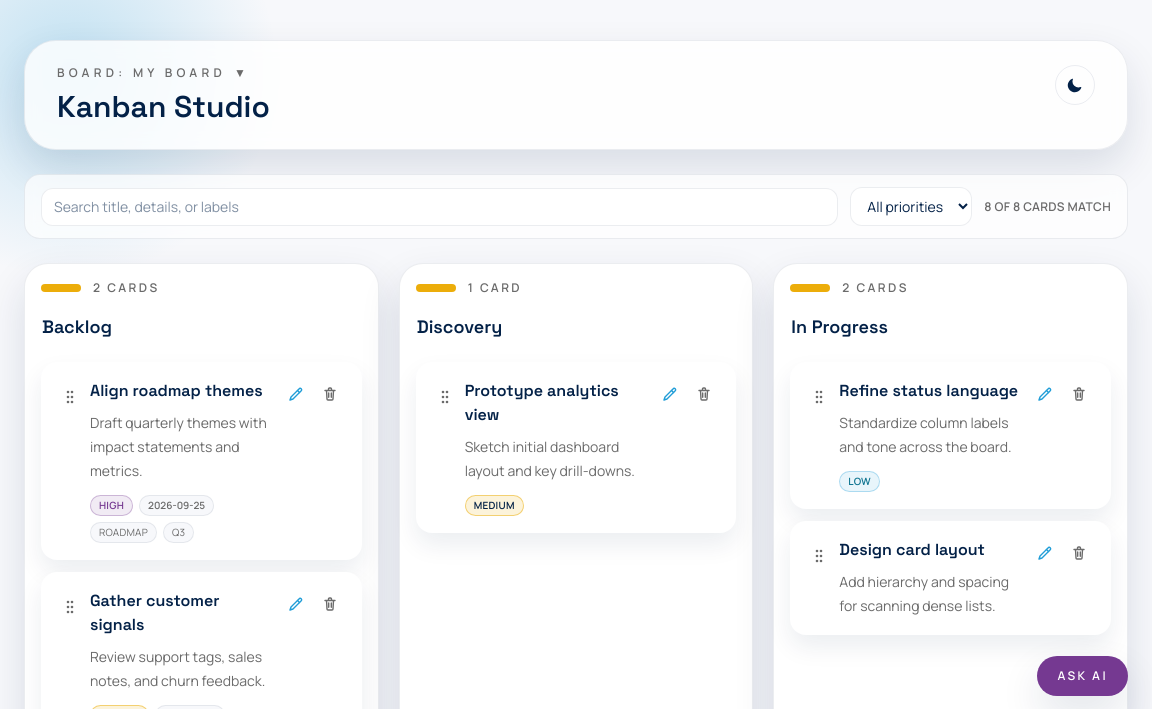
Test: KanbanBoard › column rename › puts the title back when the field is left blank
Clear the field named "column title" at point(193, 327), box [33, 308, 354, 346]
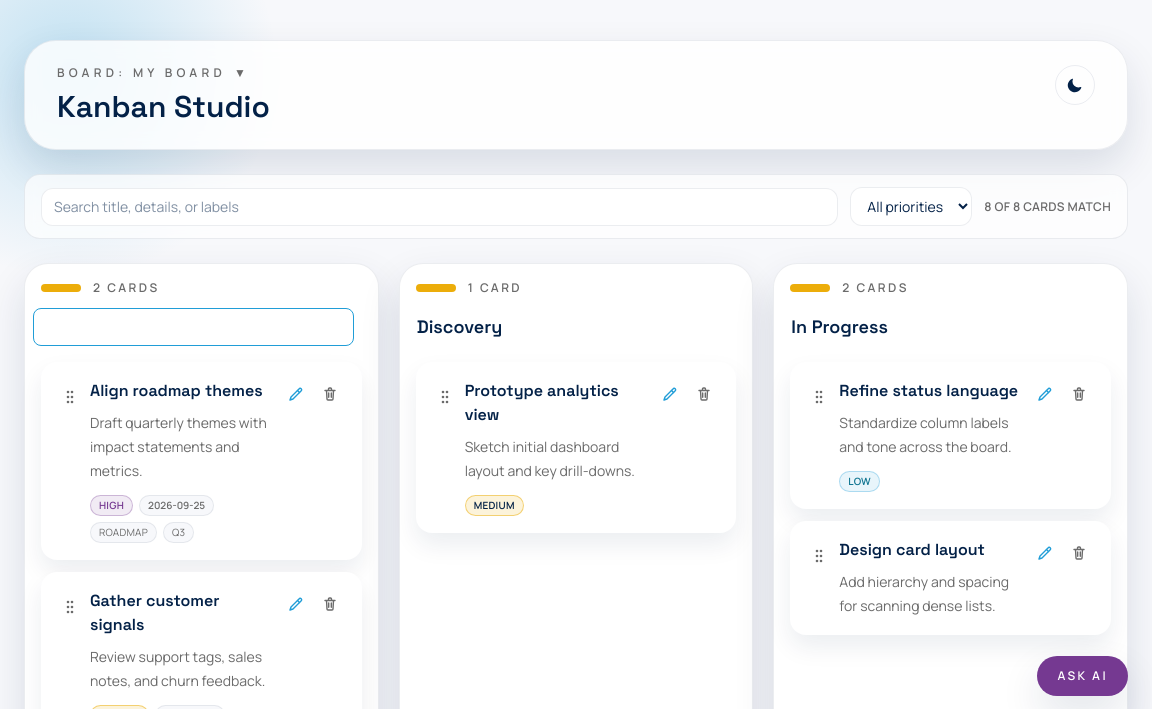
Press Tab
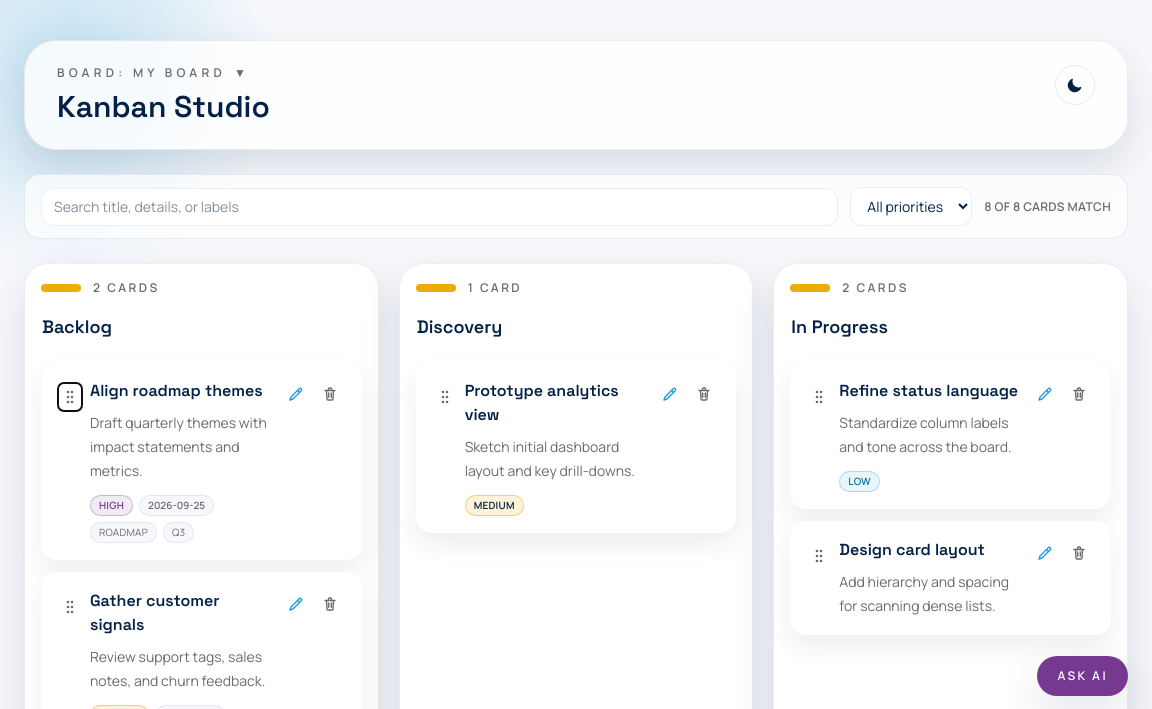
Expected: the field named "column title" holds "Backlog", [33, 308, 354, 346]
